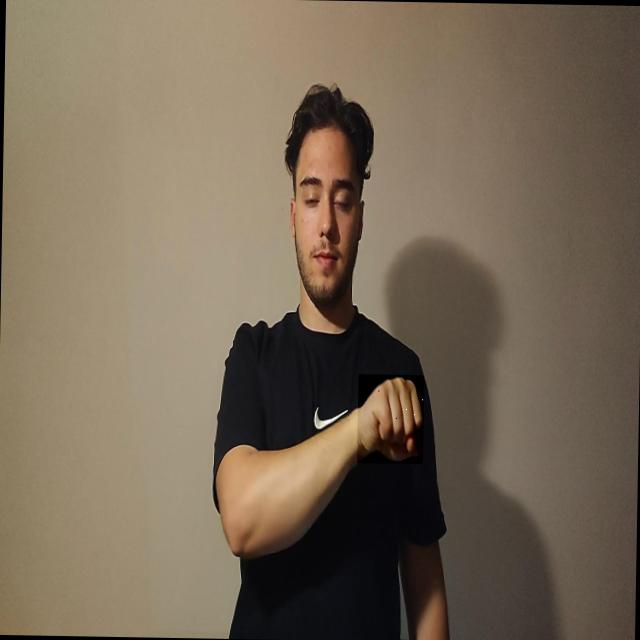yes: (356, 374, 424, 464)
